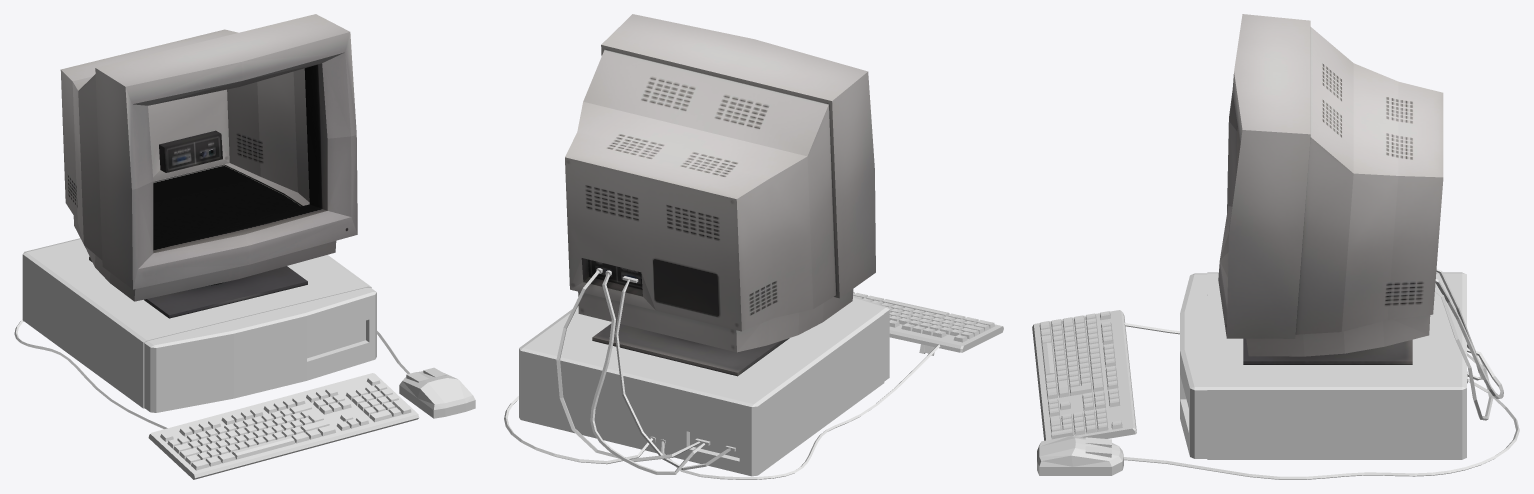
Rendered from computer_setup.glb.
3 renders of one model, left to right at view 1: azimuth 30°, elevation 25°; view 2: azimuth 150°, elevation 25°; view 3: azimuth 270°, elevation 25°, orthographic. The views are drawn at different scales.
Visible parts, largest first — view 1: monitor_base, computer, keyboard, mouse, cables; view 2: monitor_base, computer, cables, keyboard; view 3: monitor_base, computer, keyboard, cables, mouse.
Part boxes in pixels (x1,y1,x2,y2): monitor_base: (60,14,357,318); computer: (22,238,376,412); keyboard: (148,373,418,479); mouse: (399,367,475,418); cables: (14,149,409,429); monitor_base: (565,14,875,376); computer: (519,296,889,476); cables: (504,268,940,479); keyboard: (853,292,1003,355); monitor_base: (1218,14,1443,364); computer: (1180,272,1466,459); keyboard: (1032,310,1136,440); cables: (1124,269,1519,479); mouse: (1037,436,1123,475).
Size of the model in its own units: 2.24 by 2.29 by 3.04.
1 material, 1 textured.
